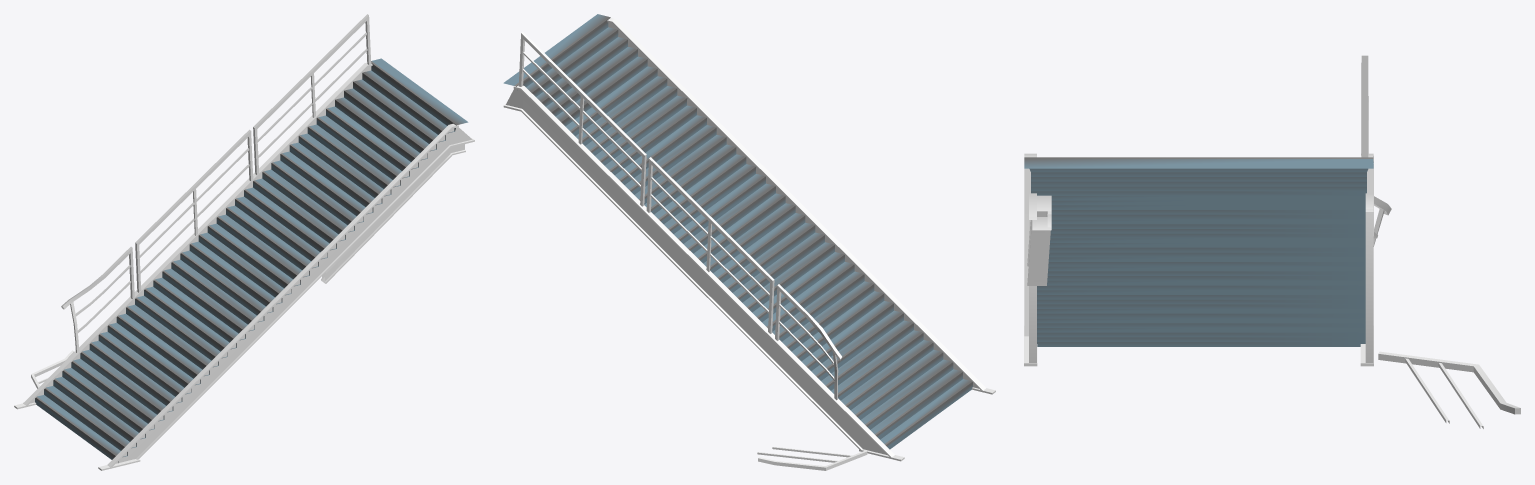
The model's file is SM_H_Building_Tide_WardenBoxroom_02b_ATLAS.fbx.
3 views of the same model, side by side, from view 1: azimuth 30°, elevation 25°; view 2: azimuth 150°, elevation 25°; view 3: azimuth 270°, elevation 25° (orthographic). The views are drawn at different scales.
Parts seen in each view (by area): view 1: SM_H_Building_Tide_WardenBoxroom_02b_ATLAS; view 2: SM_H_Building_Tide_WardenBoxroom_02b_ATLAS; view 3: SM_H_Building_Tide_WardenBoxroom_02b_ATLAS.
Boxes of the visible parts, x1,y1,x2,y2 form: SM_H_Building_Tide_WardenBoxroom_02b_ATLAS: (14,14,474,470); SM_H_Building_Tide_WardenBoxroom_02b_ATLAS: (503,14,995,470); SM_H_Building_Tide_WardenBoxroom_02b_ATLAS: (1024,55,1520,428).
Size of the model in its own units: 948 by 545 by 746.
